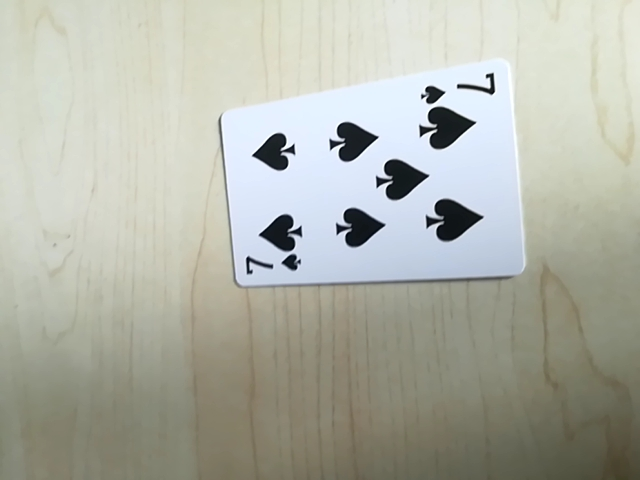ht 7: (419, 68, 500, 102), (236, 250, 307, 285)
